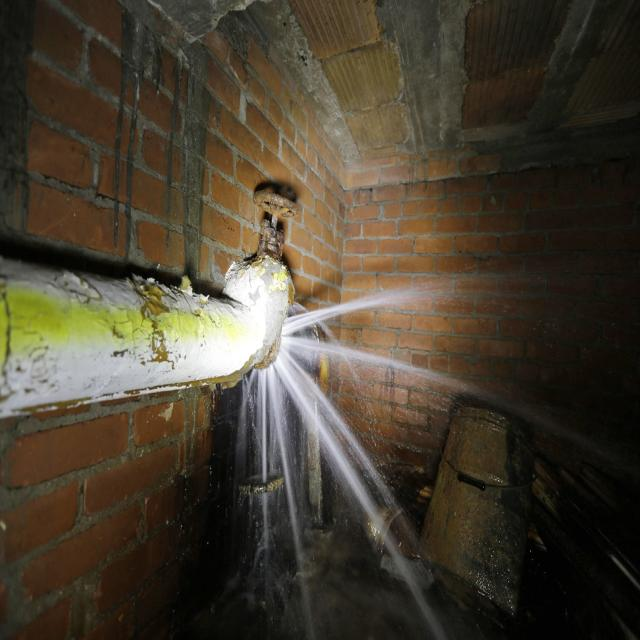leak: (276, 333, 640, 485), (270, 351, 450, 640), (275, 336, 447, 592), (278, 264, 516, 338), (269, 365, 319, 640), (234, 366, 257, 496), (256, 367, 267, 592)
